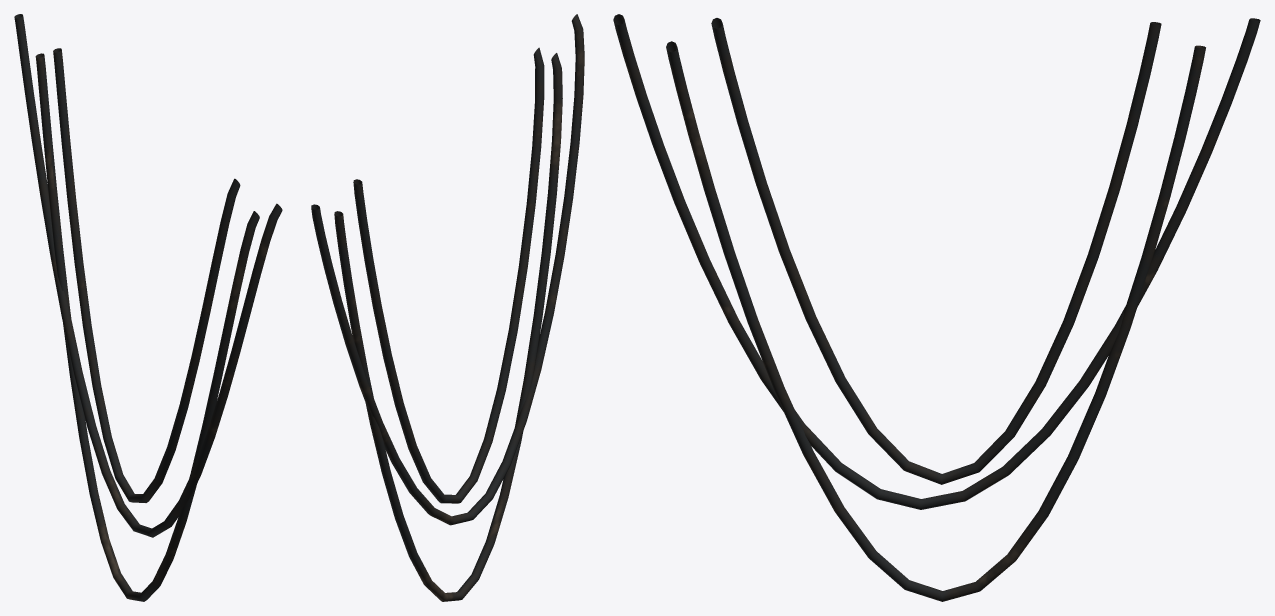
The model's file is WiresHanging_1.fbx.
The picture shows the model from 3 angles, left to right: view 1: azimuth 30°, elevation 25°; view 2: azimuth 150°, elevation 25°; view 3: azimuth 270°, elevation 25°; orthographic projection. The views are drawn at different scales.
Parts seen in each view (by area): view 1: WiresHanging_1; view 2: WiresHanging_1; view 3: WiresHanging_1.
Boxes of the visible parts, x1,y1,x2,y2 form: WiresHanging_1: (14,14,282,601); WiresHanging_1: (311,14,584,601); WiresHanging_1: (613,14,1260,601).
Bounding box in the file's own units: 30.14 × 463 × 455.
